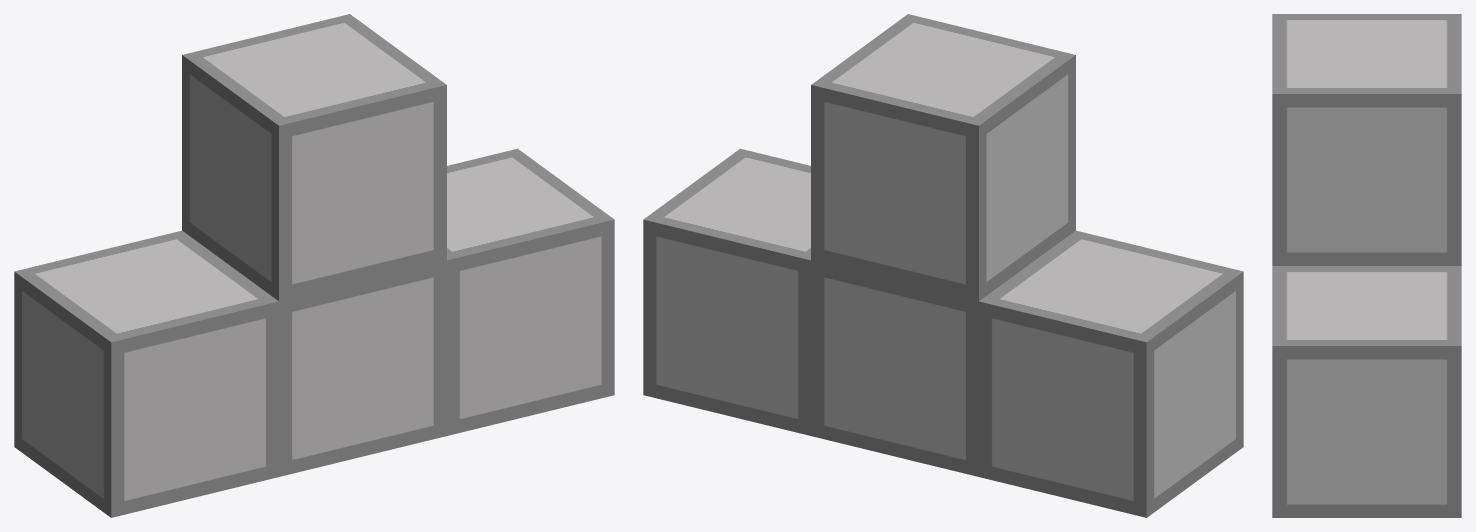
Rendered from TpieceTri.obj.
3 views of the same model, side by side, from view 1: azimuth 30°, elevation 25°; view 2: azimuth 150°, elevation 25°; view 3: azimuth 270°, elevation 25° (orthographic). The views are drawn at different scales.
Visible parts, largest first — view 1: TpieceTri; view 2: TpieceTri; view 3: TpieceTri.
Boxes of the visible parts, box(x1,y1,x2,y2) form: TpieceTri: box(14, 14, 614, 517); TpieceTri: box(643, 14, 1243, 517); TpieceTri: box(1272, 14, 1461, 517).
Bounding box in the file's own units: 3 × 2 × 1.
1 material, 1 textured.
